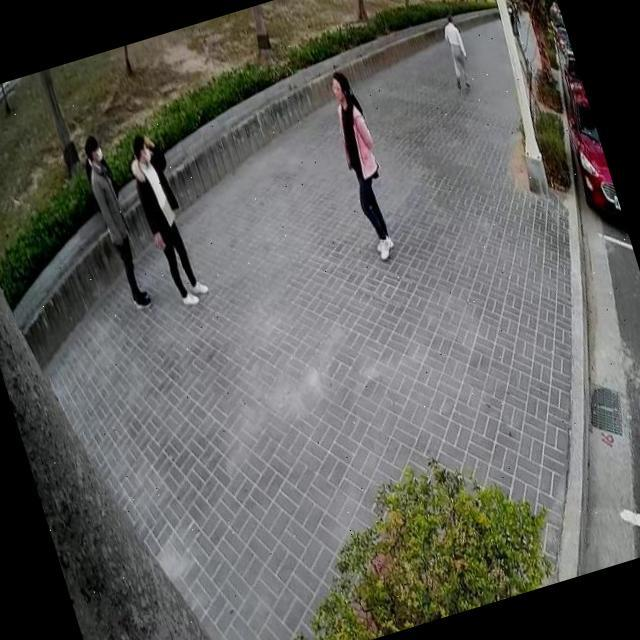person: (314, 59, 410, 264), (115, 120, 214, 316), (74, 126, 158, 316), (433, 8, 480, 98), (500, 0, 524, 46)
